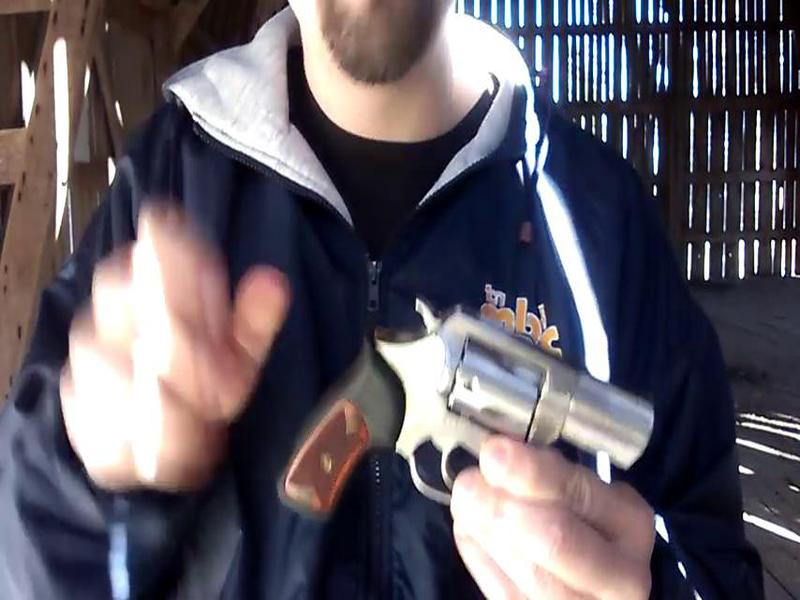Revolver: (292, 283, 638, 533)
